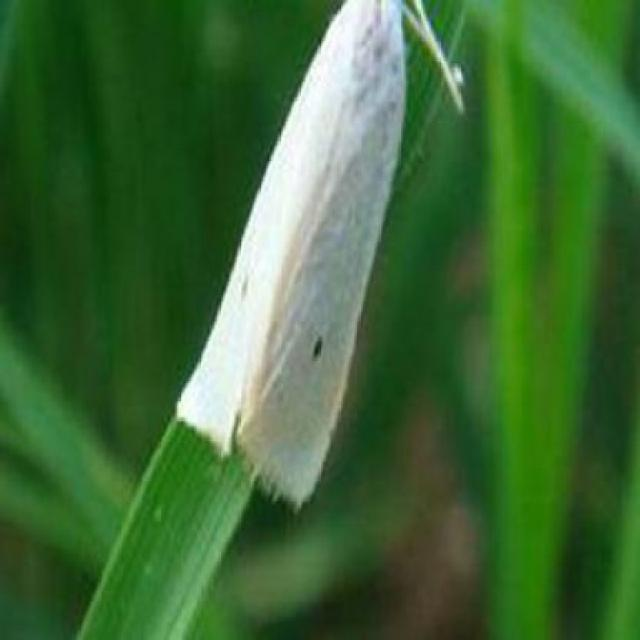stem-borer: (174, 0, 468, 517)
